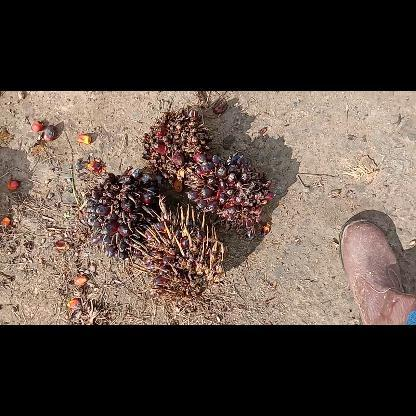TBS abnormal: (130, 194, 222, 298), (186, 151, 274, 227), (86, 167, 152, 259), (142, 108, 210, 186)
